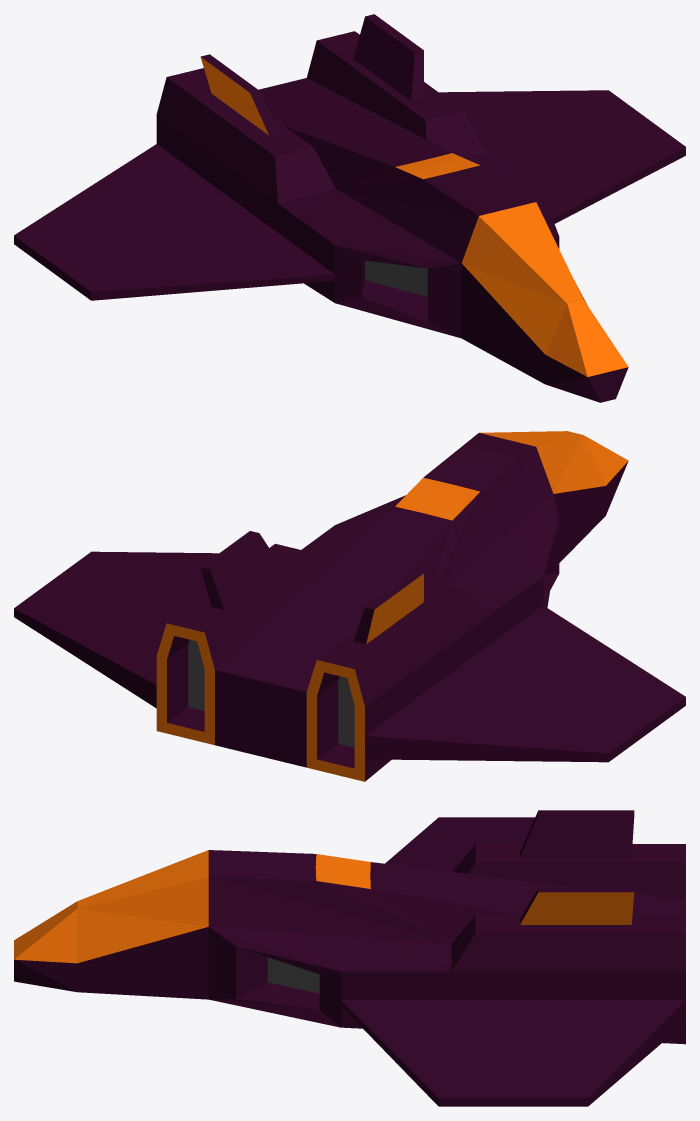
Rendered from Enemy 3.FBX.
The picture shows the model from 3 angles, top to bottom: view 1: azimuth 30°, elevation 25°; view 2: azimuth 150°, elevation 25°; view 3: azimuth 270°, elevation 25°; orthographic projection. The views are drawn at different scales.
Visible parts, largest first — view 1: Spaceship 3; view 2: Spaceship 3; view 3: Spaceship 3.
Part boxes in pixels (x1,y1,x2,y2): Spaceship 3: (14,14,685,402); Spaceship 3: (14,431,685,781); Spaceship 3: (14,810,685,1106).
Size of the model in its own units: 51.21 by 12.22 by 51.81.
